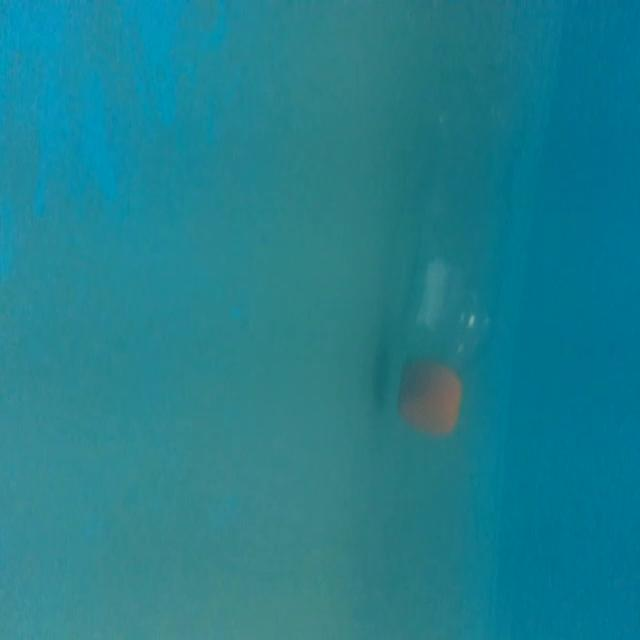plastic bottle: (385, 83, 518, 440)
